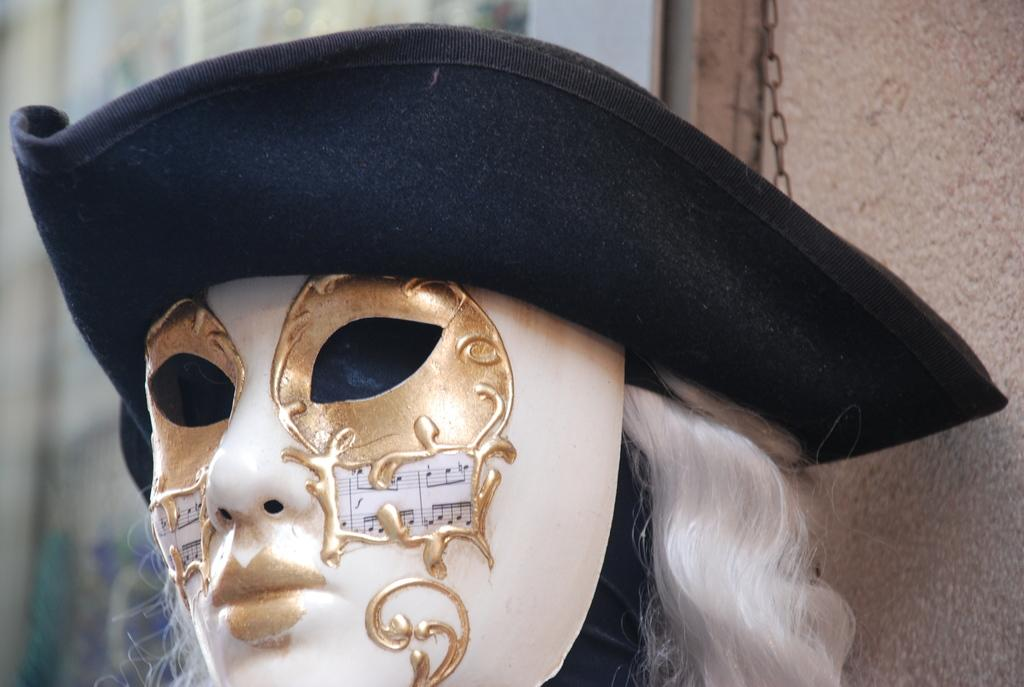Hat: (10, 20, 1008, 470)
